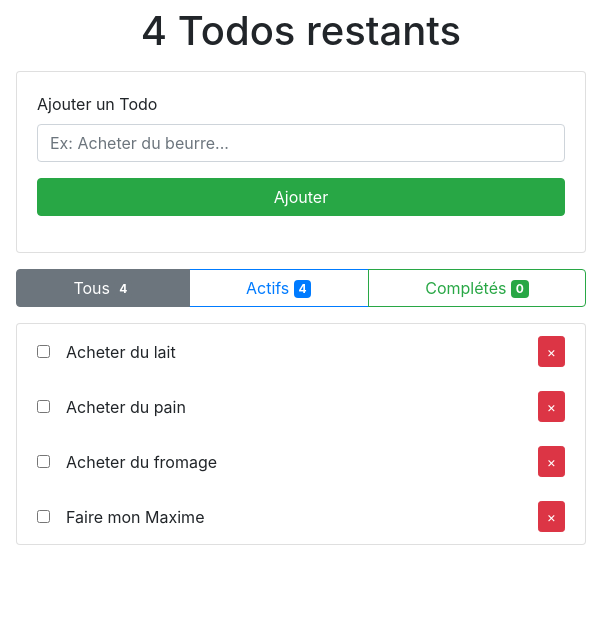
Test case: Ajout d'un todo › un nouveau todo apparaît dans la liste après soumission
Type "Apprendre useReducer" into the field labelled "Ajouter un Todo" at (301, 143), box [37,124,565,162]
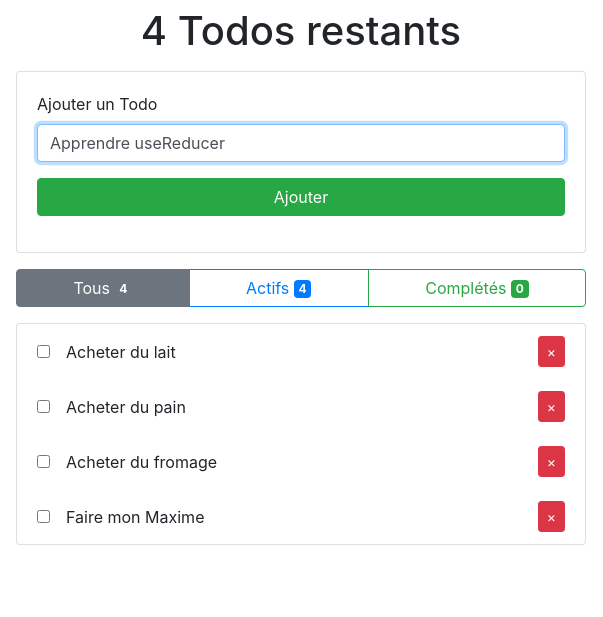
Click the button "Ajouter" at (301, 197), box [37,178,565,216]
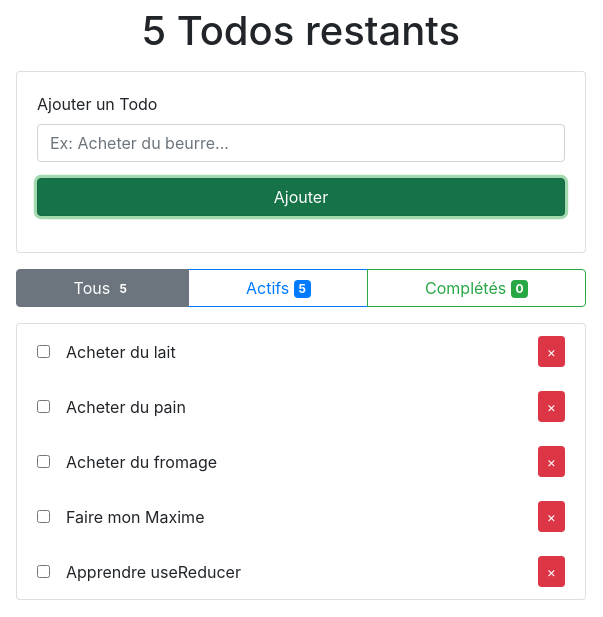
Expected: the text "Apprendre useReducer" is shown, [66,560,241,584]
